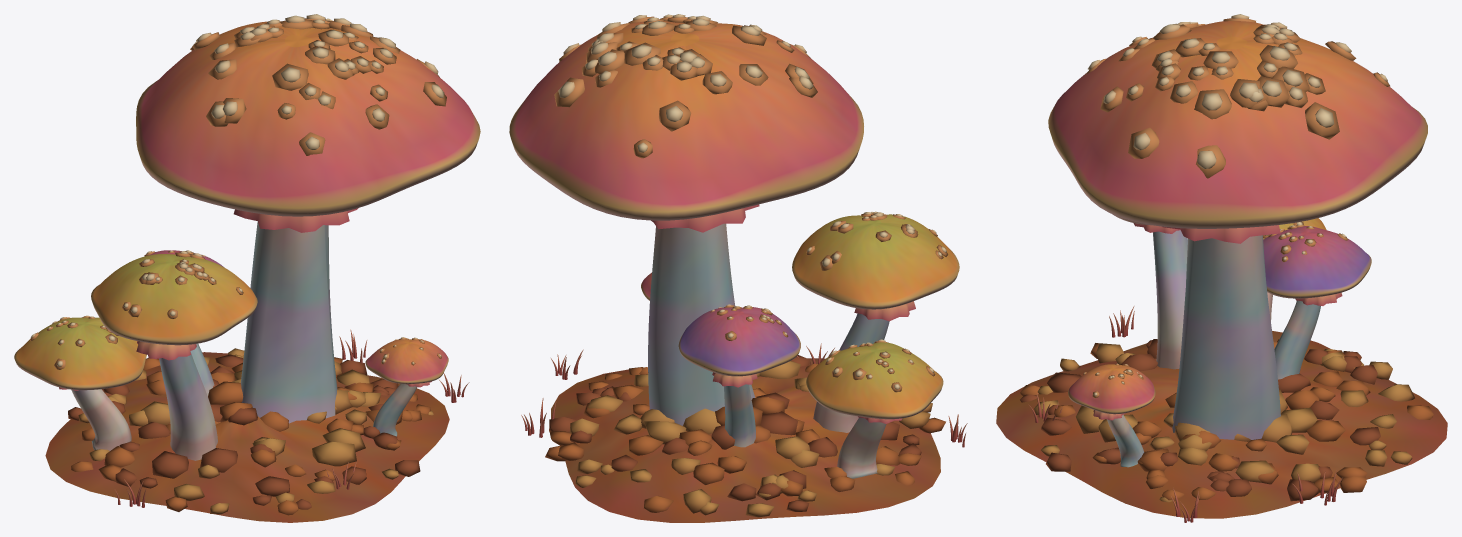
Rendered from mantar_kumesi.glb.
3 renders of one model, left to right at view 1: azimuth 30°, elevation 25°; view 2: azimuth 150°, elevation 25°; view 3: azimuth 270°, elevation 25°, orthographic. The views are drawn at different scales.
Parts seen in each view (by area): view 1: mantar_kumesi_LOD0; view 2: mantar_kumesi_LOD0; view 3: mantar_kumesi_LOD0.
Boxes of the visible parts, x1,y1,x2,y2 form: mantar_kumesi_LOD0: [14, 14, 480, 522]; mantar_kumesi_LOD0: [509, 14, 967, 522]; mantar_kumesi_LOD0: [996, 14, 1447, 522].
Size of what is drawn, in the model's own units: 31.11 by 28.6 by 27.86.
